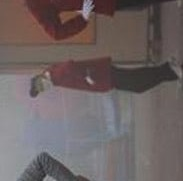person: (29, 59, 181, 100), (20, 1, 164, 41), (16, 151, 91, 181)
